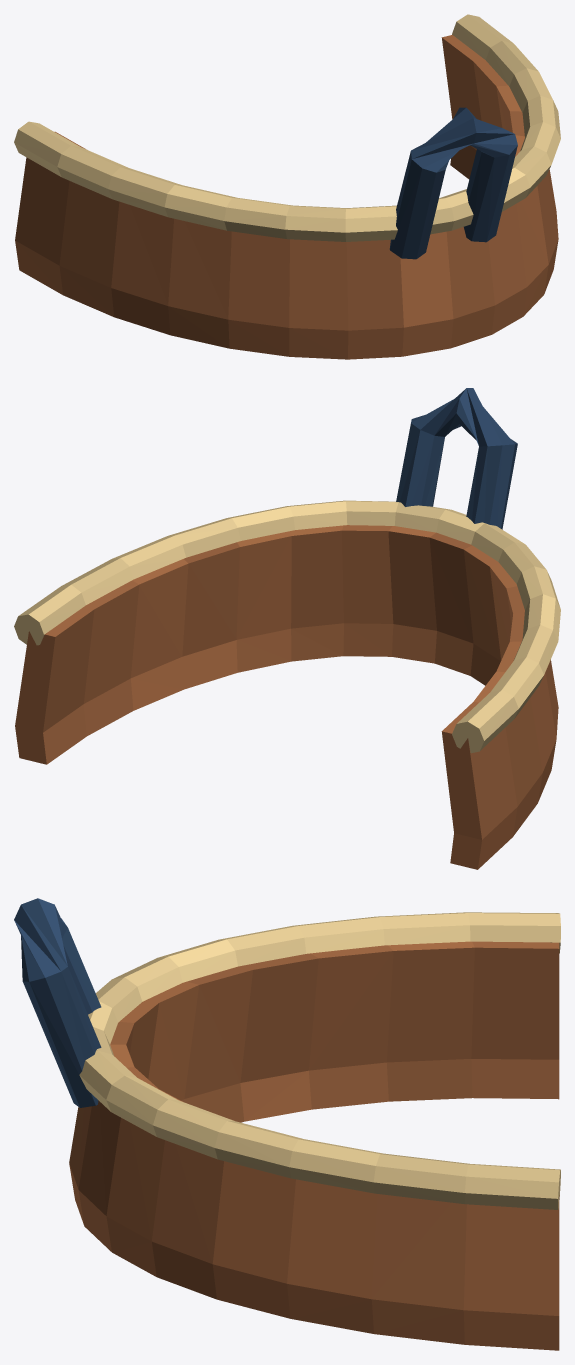
Rendered from ES_11_Bound_Heel_Counter.fbx.
3 renders of one model, top to bottom at view 1: azimuth 30°, elevation 25°; view 2: azimuth 150°, elevation 25°; view 3: azimuth 270°, elevation 25°, orthographic. The views are drawn at different scales.
Parts seen in each view (by area): view 1: ES_11_Bound_Heel_Counter; view 2: ES_11_Bound_Heel_Counter; view 3: ES_11_Bound_Heel_Counter.
Part boxes in pixels (<box>): ES_11_Bound_Heel_Counter: <box>14,14,560,359</box>; ES_11_Bound_Heel_Counter: <box>14,388,560,869</box>; ES_11_Bound_Heel_Counter: <box>14,898,560,1350</box>.
Size of the model in its own units: 0.8719 by 0.472 by 0.7341.
3 materials, 3 textured.
